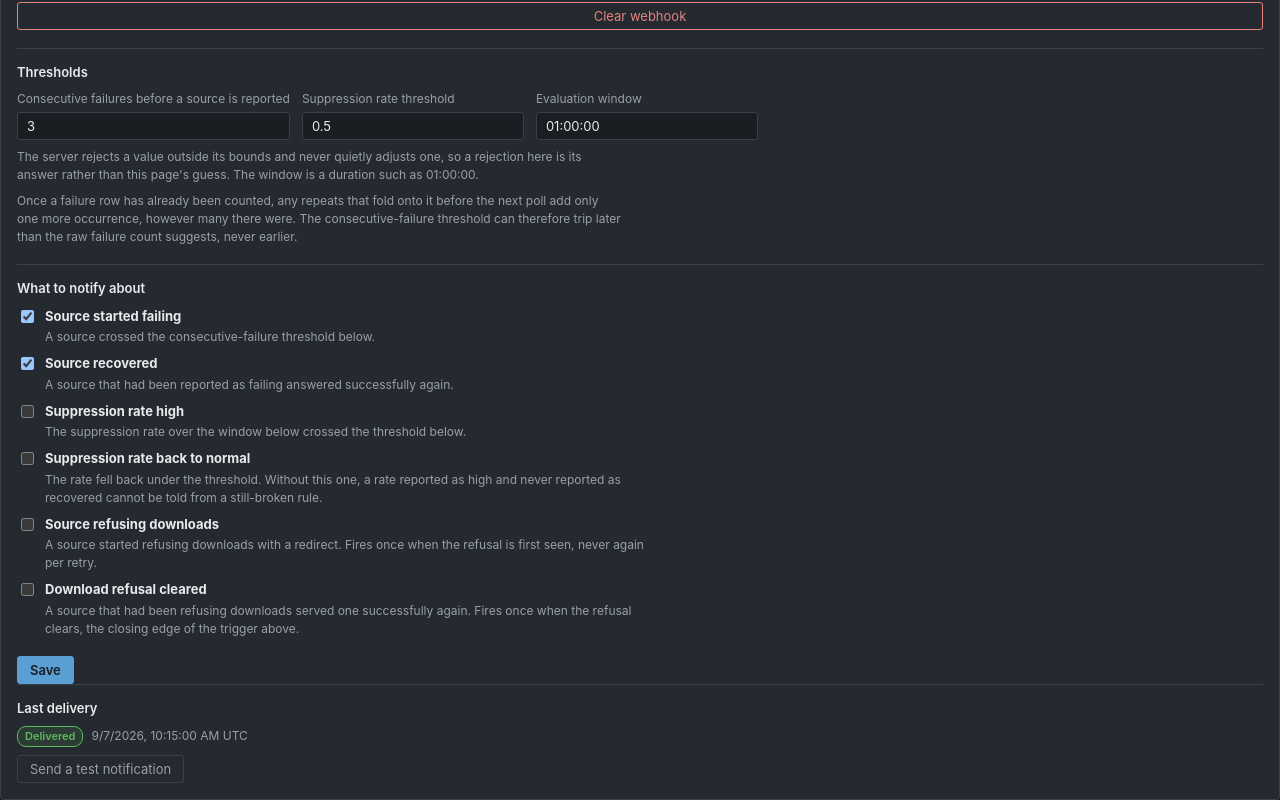
Test: Notifications section › renders TlsFailure as its own distinct outcome
This screenshot has width=1280, height=800.
(page scrolled)
Click the button "Send a test notification". click: (101, 768)
box: 17,754 -> 184,782
(page scrolled)
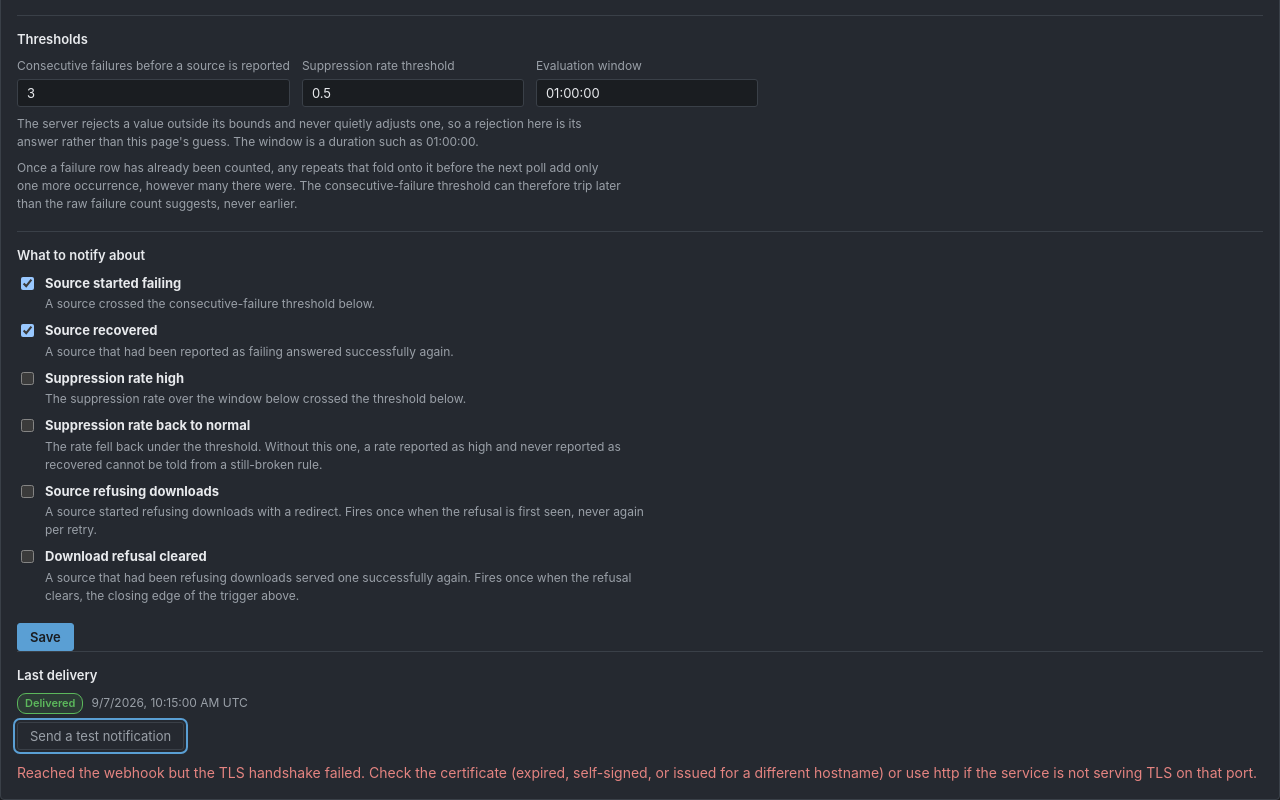
Expected: the text "TLS handshake failed" is shown, 17,764 -> 1257,780
